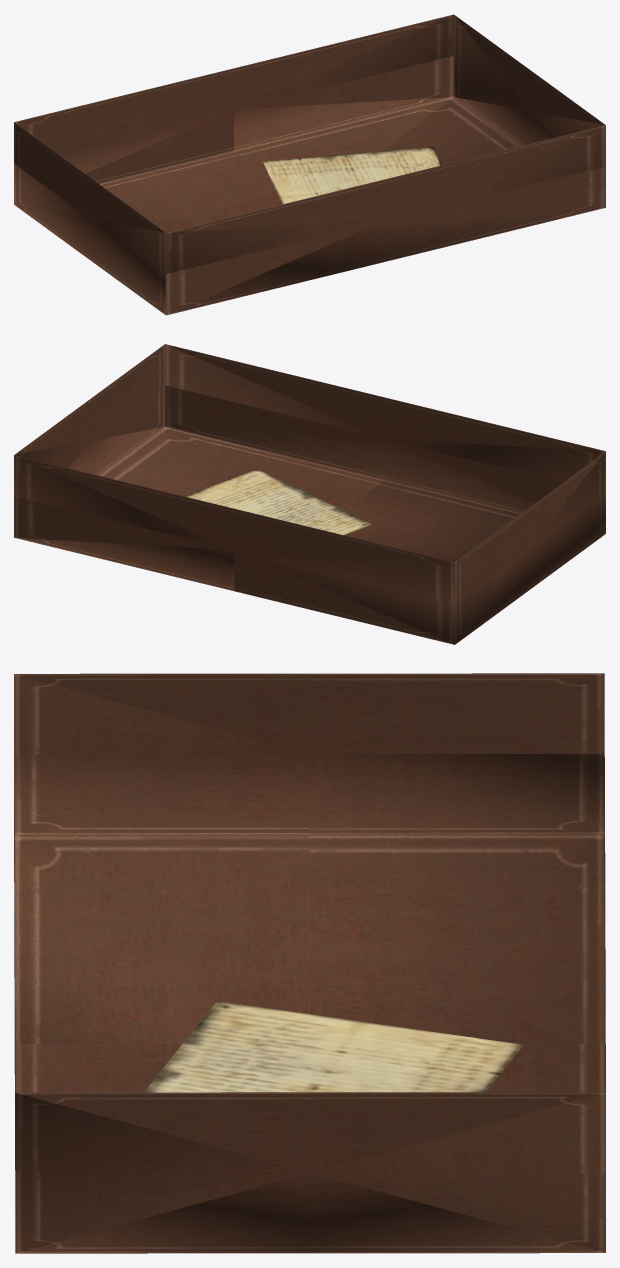
The model's file is drawer_gov.fbx.
3 views of the same model, one above another, from view 1: azimuth 30°, elevation 25°; view 2: azimuth 150°, elevation 25°; view 3: azimuth 270°, elevation 25° (orthographic). The views are drawn at different scales.
Parts seen in each view (by area): view 1: drawer_mesh, letter; view 2: drawer_mesh, letter; view 3: drawer_mesh, letter.
Part boxes in pixels (x1,y1,x2,y2): drawer_mesh: (14,14,605,315); letter: (262,146,441,204); drawer_mesh: (14,344,605,644); letter: (184,469,371,535); drawer_mesh: (14,673,605,1253); letter: (144,1001,523,1092).
Size of the model in its own units: 301 by 53.96 by 180.
Materials: 1 (1 with a texture image).
